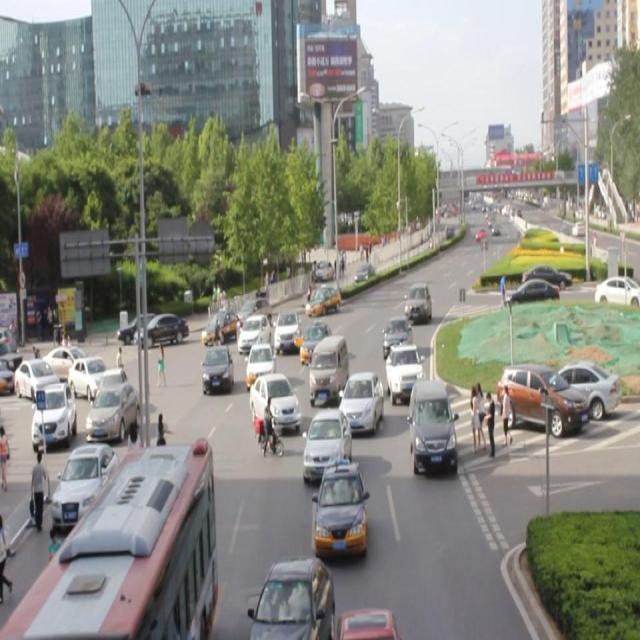car: (249, 558, 333, 640), (316, 460, 364, 550), (409, 379, 453, 466), (302, 407, 350, 480), (247, 369, 302, 430), (337, 372, 383, 429), (337, 604, 396, 640), (385, 342, 422, 399), (304, 316, 338, 362), (274, 307, 304, 357), (245, 342, 275, 388), (202, 344, 233, 388), (382, 314, 411, 360), (311, 279, 348, 315), (238, 312, 270, 353), (405, 281, 432, 322)
truck: (308, 331, 348, 401)
van: (1, 447, 217, 640)
